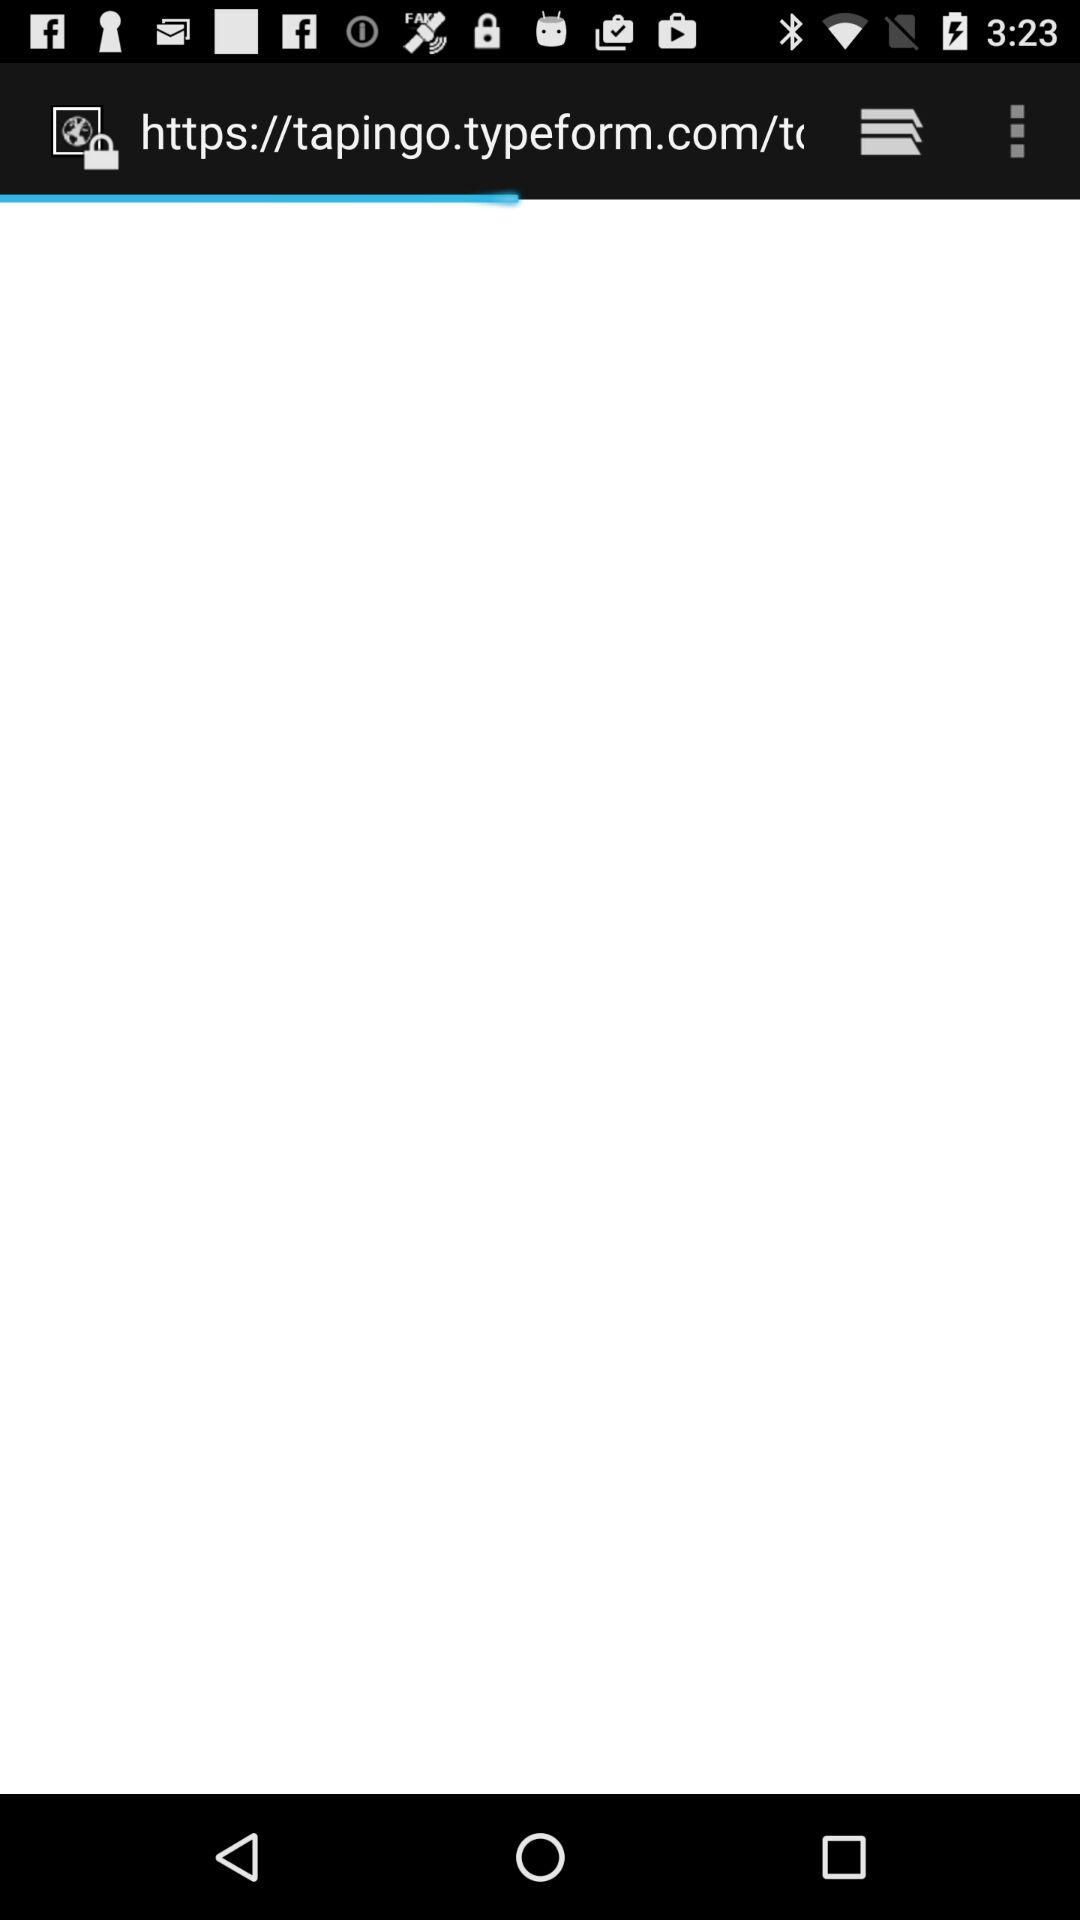Bar: (5, 63, 1075, 224)
ImageView: (227, 185, 857, 604), (709, 100, 857, 185), (40, 88, 125, 173)
SpecialButton: (702, 63, 828, 200), (828, 63, 953, 200), (953, 63, 1075, 200)
TextView: (248, 100, 709, 185)
